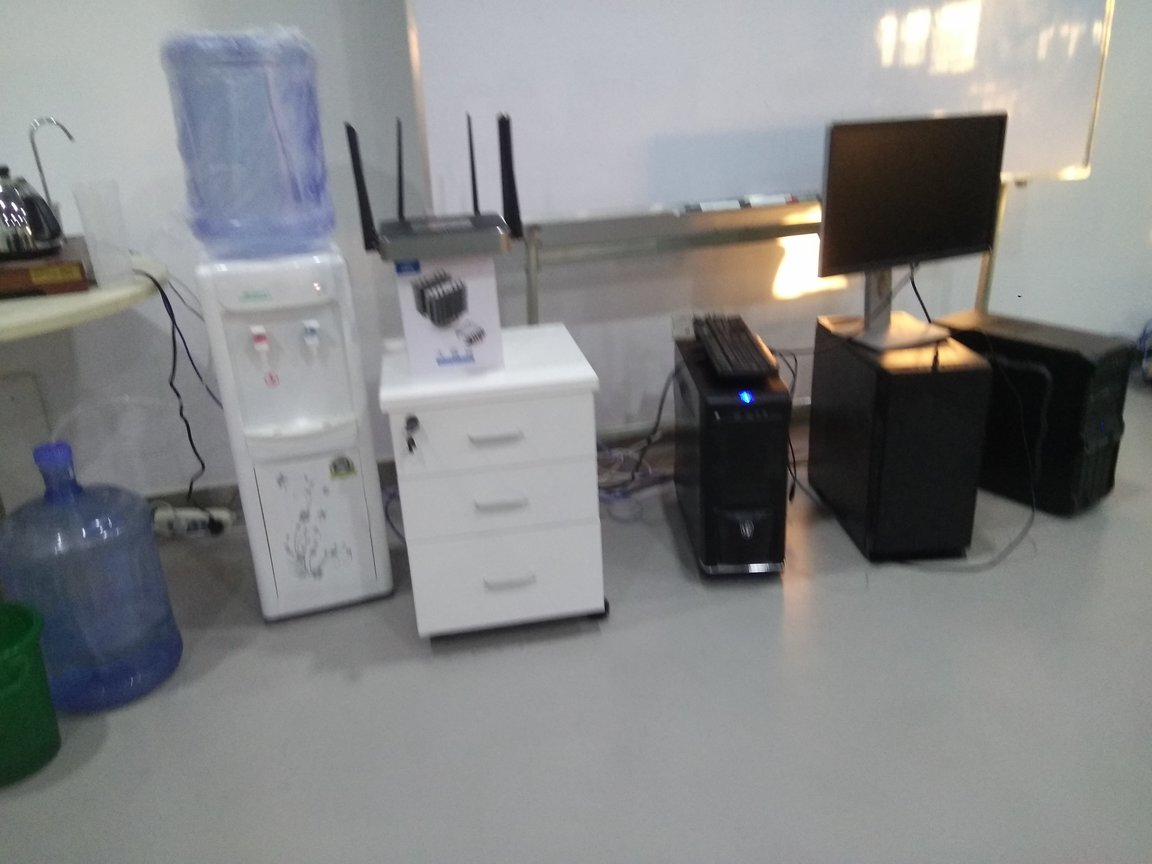computer: (930, 307, 1150, 535), (809, 309, 980, 578), (671, 334, 792, 588)
drawer chest: (378, 315, 613, 642)
monitor: (821, 108, 1009, 367)
scuttlebutt: (8, 442, 191, 712), (155, 26, 355, 251)
water dispenser: (196, 237, 397, 611)
